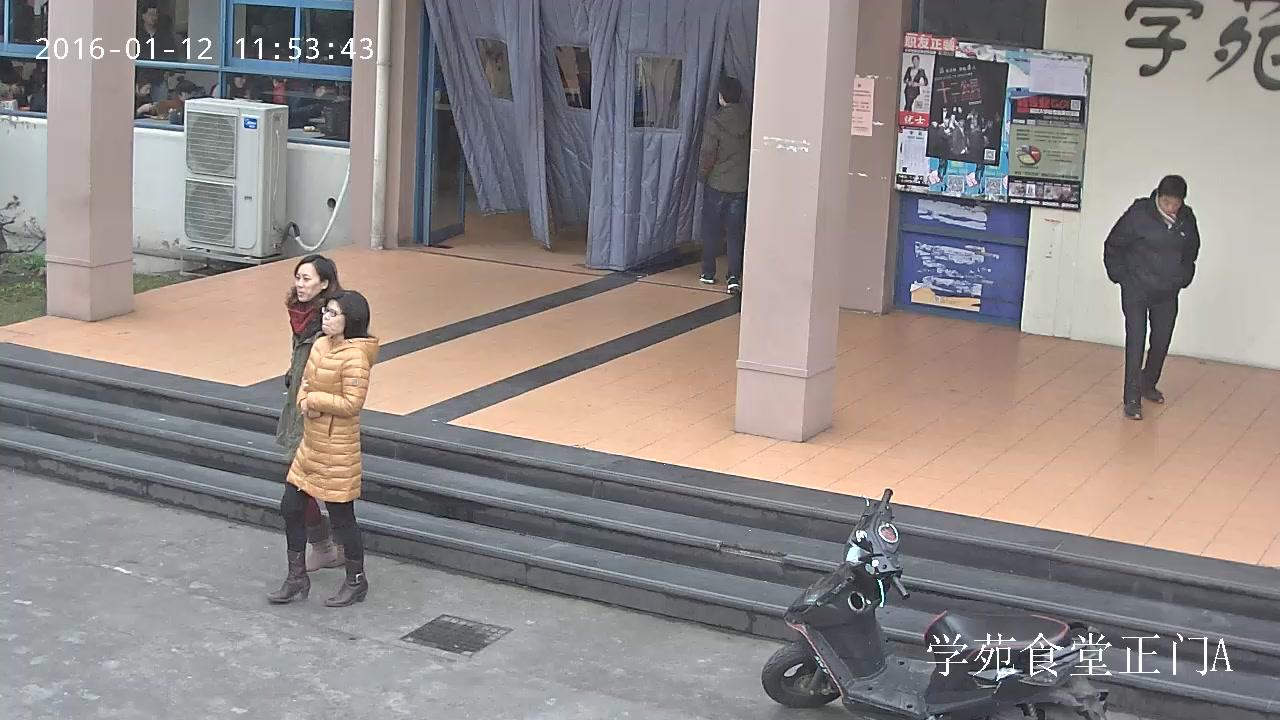person: (266, 290, 381, 606), (273, 254, 353, 572), (1104, 174, 1200, 415), (695, 77, 751, 294), (135, 5, 168, 80), (170, 80, 210, 125), (903, 54, 927, 111), (133, 79, 159, 119)
